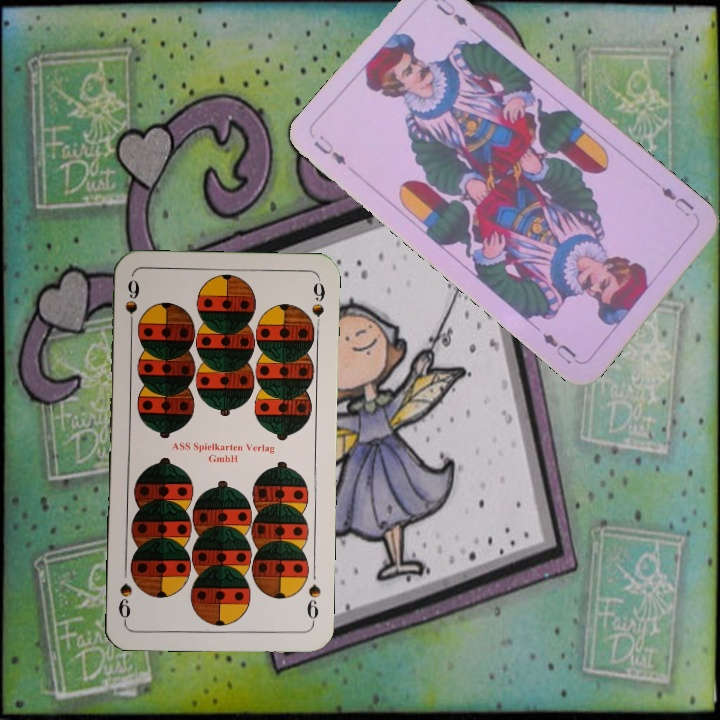EU: (657, 182, 697, 219), (309, 131, 349, 168)
S9: (121, 275, 142, 334), (303, 580, 323, 627)
